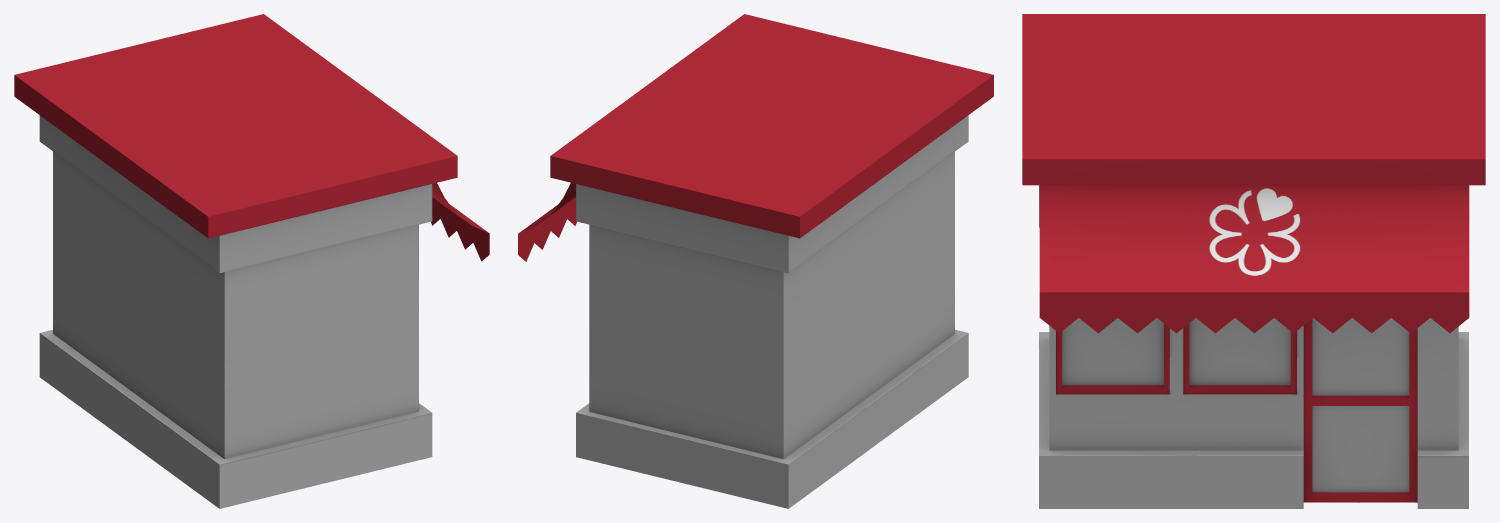
The model's file is Resturant.glb.
3 renders of one model, left to right at view 1: azimuth 30°, elevation 25°; view 2: azimuth 150°, elevation 25°; view 3: azimuth 270°, elevation 25°, orthographic. The views are drawn at different scales.
Parts seen in each view (by area): view 1: Restorant; view 2: Restorant; view 3: Restorant.
Part boxes in pixels (x1,y1,x2,y2): Restorant: [14, 14, 489, 508]; Restorant: [518, 14, 993, 508]; Restorant: [1022, 14, 1485, 508].
Size of the model in its own units: 1.01 by 1.01 by 1.18.
Materials: 1 (1 with a texture image).
